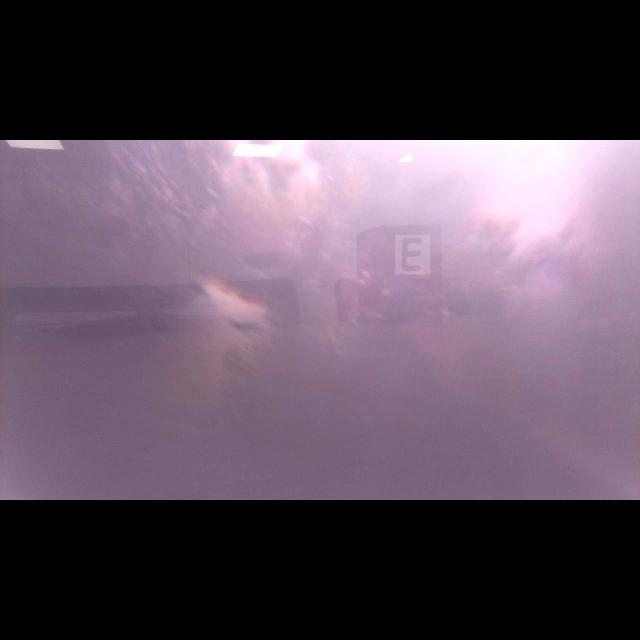E: (402, 237, 422, 270)
